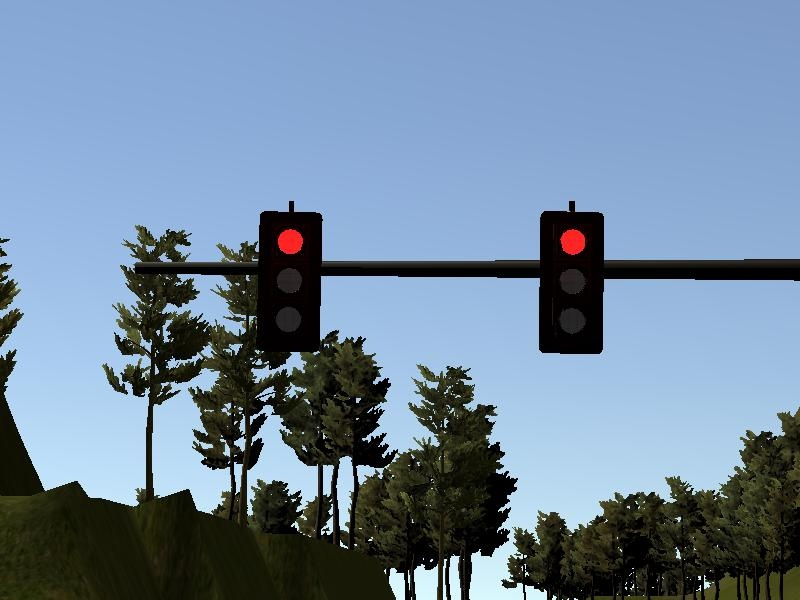red: (252, 203, 325, 352), (534, 206, 605, 357)
